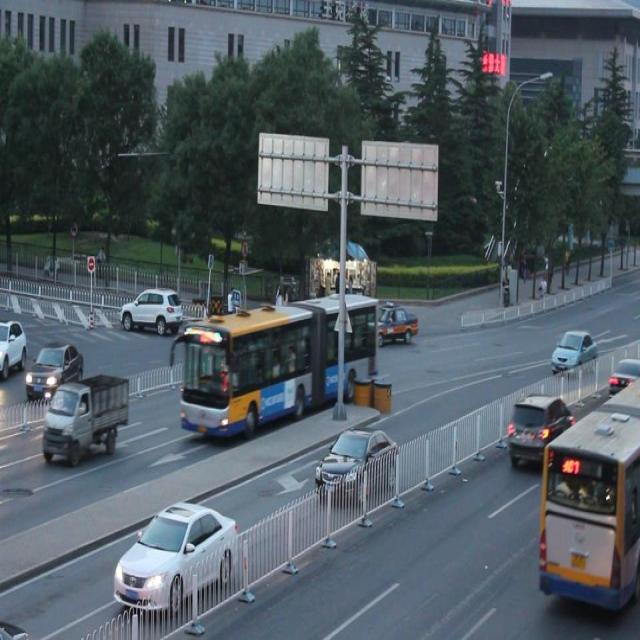bus: (44, 379, 129, 464)
car: (113, 496, 238, 604), (316, 428, 399, 501), (506, 391, 574, 465), (26, 342, 84, 398), (124, 288, 180, 334), (366, 304, 418, 345), (551, 329, 597, 371), (606, 358, 640, 414), (1, 317, 28, 378)
van: (184, 295, 376, 439), (542, 363, 640, 611)
